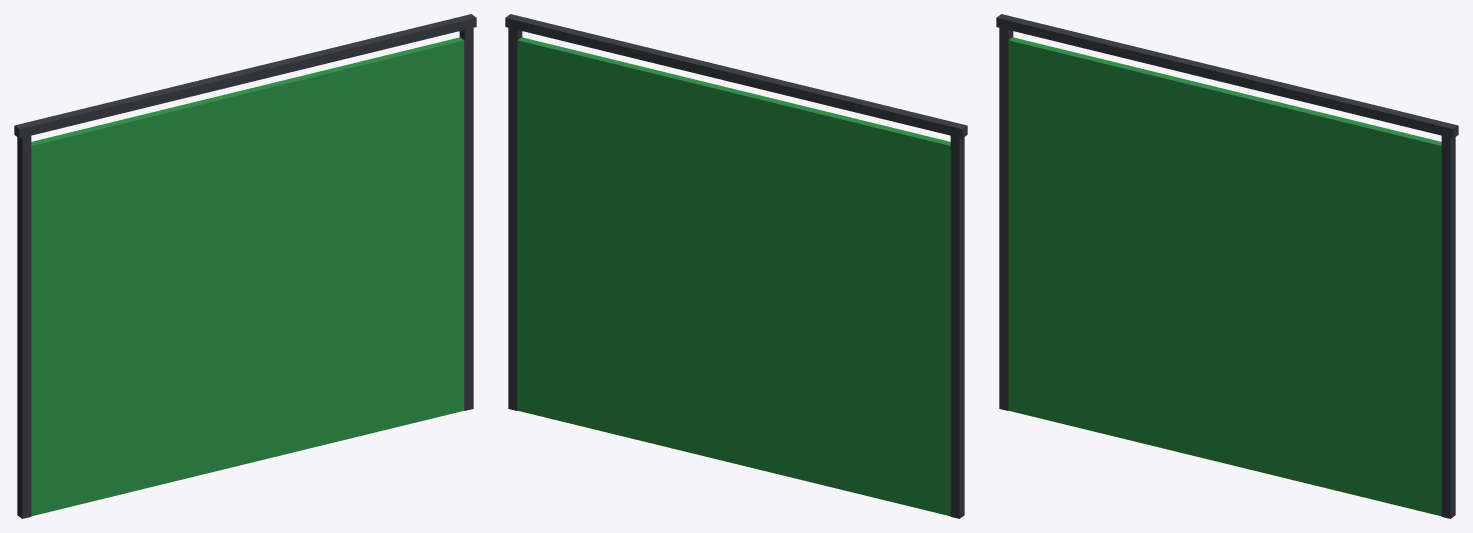
The model's file is green_screen.fbx.
The picture shows the model from 3 angles, left to right: view 1: azimuth 30°, elevation 25°; view 2: azimuth 150°, elevation 25°; view 3: azimuth 330°, elevation 25°; orthographic projection.
Parts seen in each view (by area): view 1: green_screen; view 2: green_screen; view 3: green_screen.
Part boxes in pixels (left/top/right/bottom): green_screen: left=14, top=14, right=476, bottom=518; green_screen: left=505, top=14, right=967, bottom=518; green_screen: left=996, top=14, right=1458, bottom=518.
Bounding box in the file's own units: 3.1 × 2.53 × 0.06.
